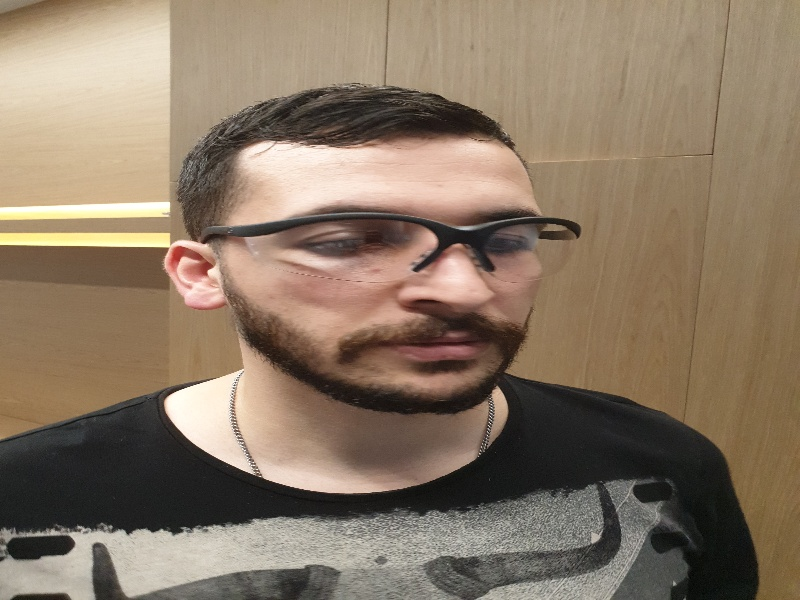Gozluk: (187, 215, 587, 284)
